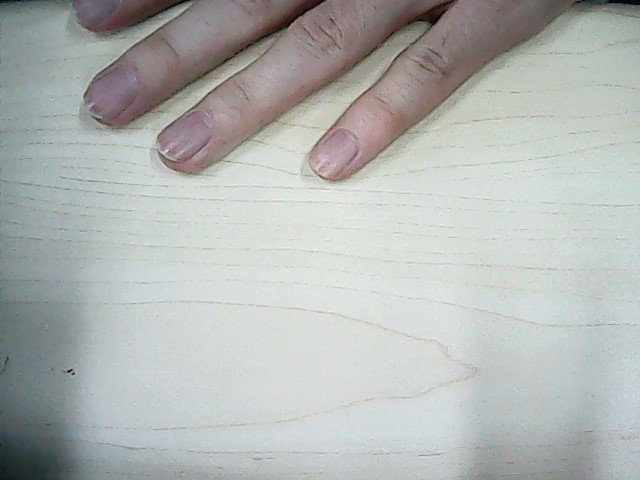nail: (84, 64, 142, 123), (157, 107, 211, 167), (308, 126, 361, 179)
